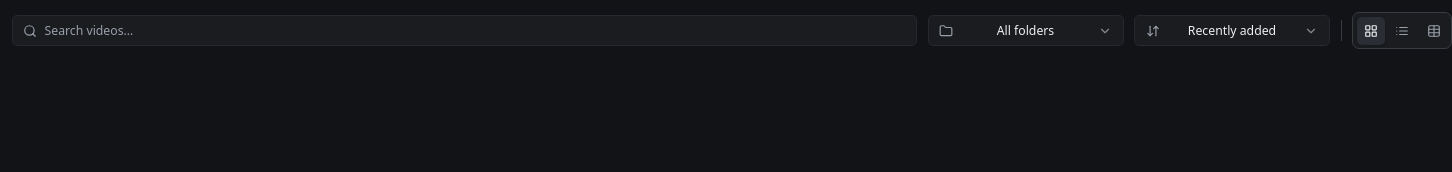
it: offers the whole library first, then each folder it holds
The image size is (1452, 172).
Click the dropdown labelled "folder" at (1026, 31), box [928,15,1124,46]
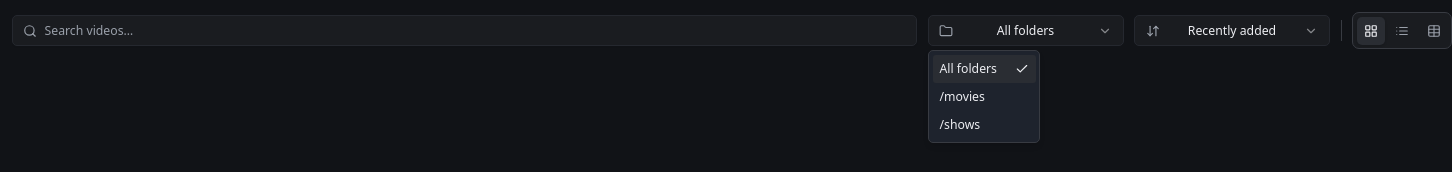
expect the options read "All folders", "/movies", "/shows", in this order: met, box [932,54,1036,82]; [940,88,985,105]; [940,116,980,133]
